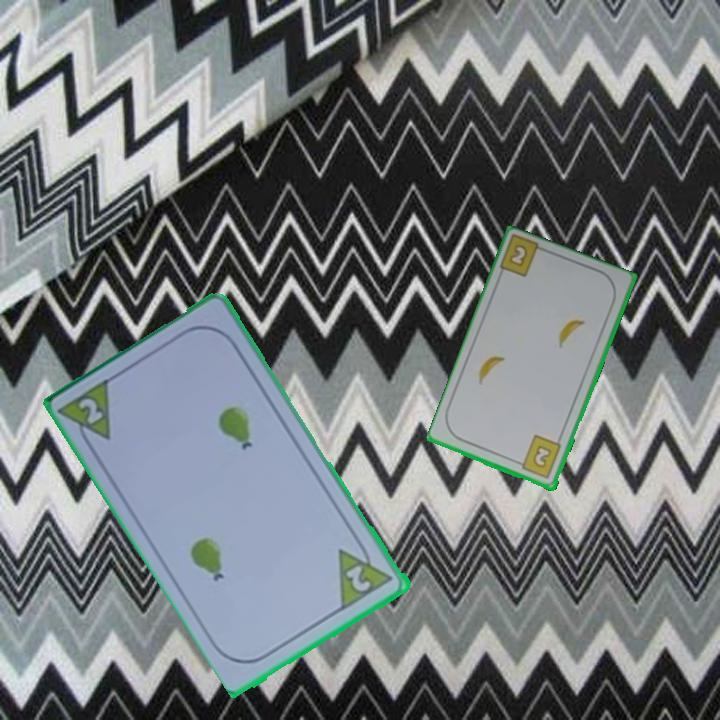2b: (513, 432, 564, 482), (508, 243, 529, 267)
2p: (343, 561, 375, 596), (75, 394, 107, 428)
